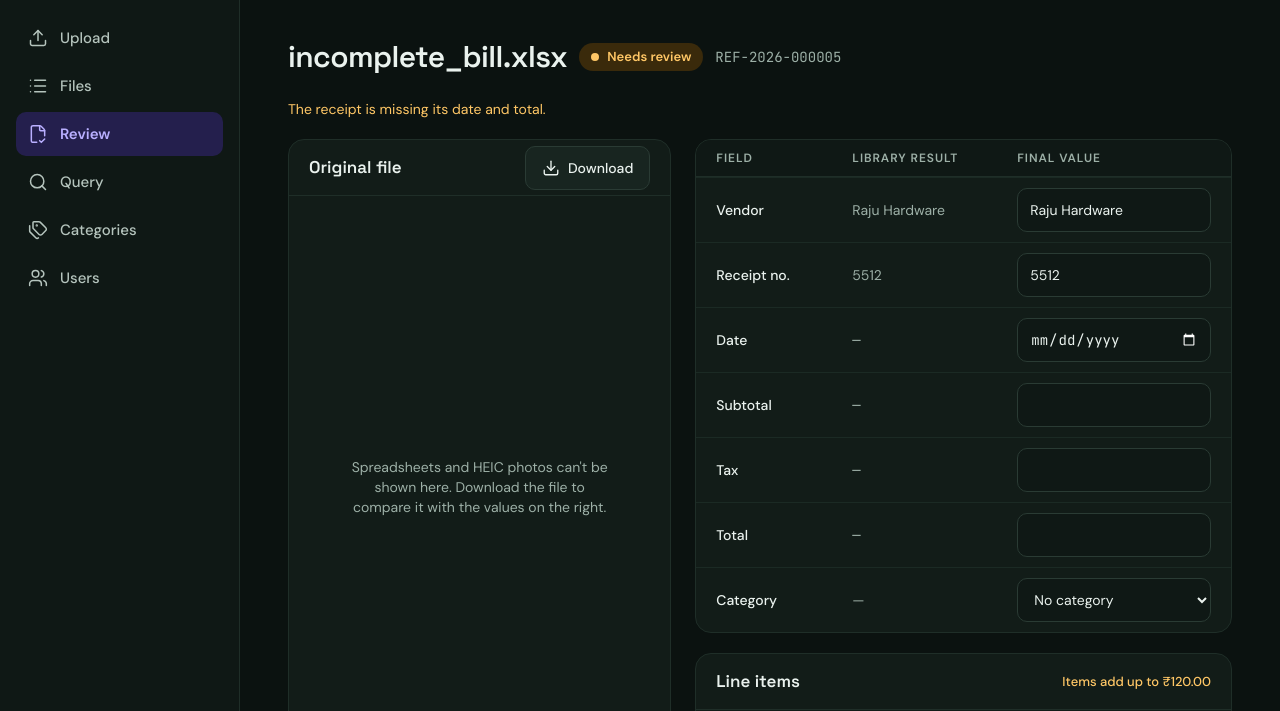
Review page › says what the reader learned, and keeps the receipt only if ticked
The image size is (1280, 711).
Expected: the field labelled "Vendor" is shown, [1017,188,1211,232]
Type "2026-08-20" into the date field labelled "Date" at (1114, 340), box [1017,318,1211,362]
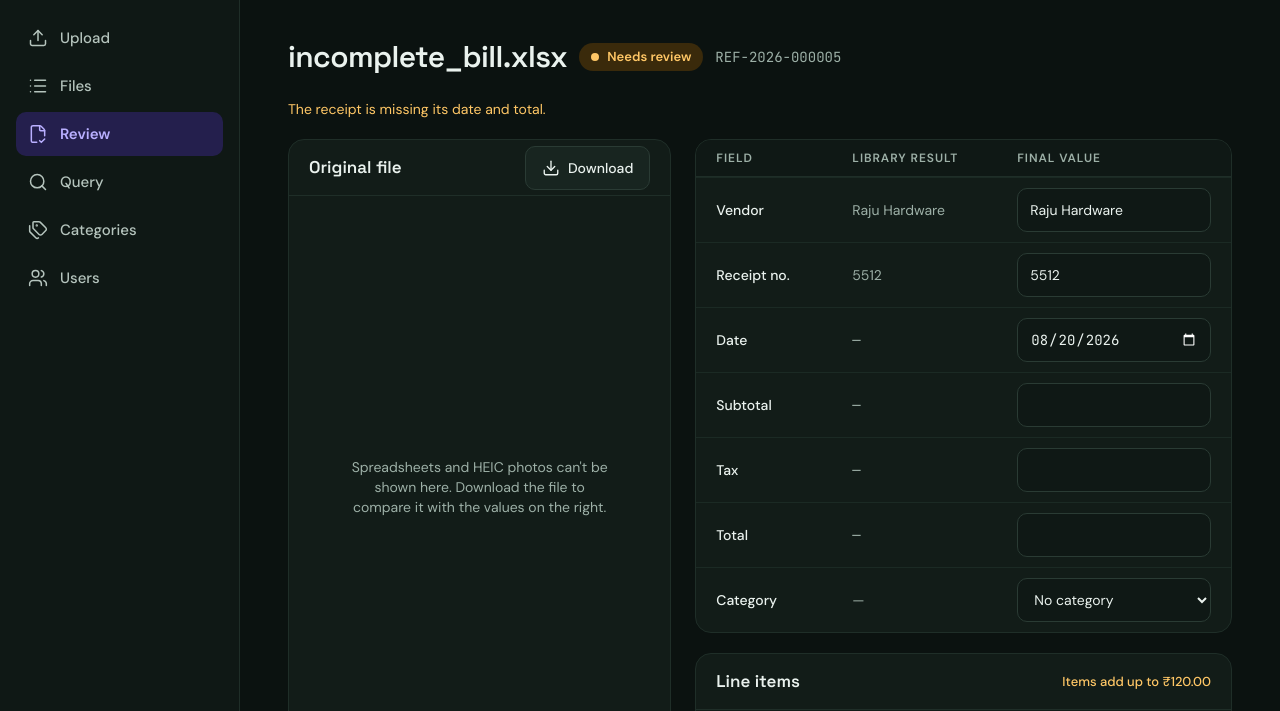
Type "210" into the field labelled "Total" at (1114, 535), box [1017,513,1211,557]
(page scrolled)
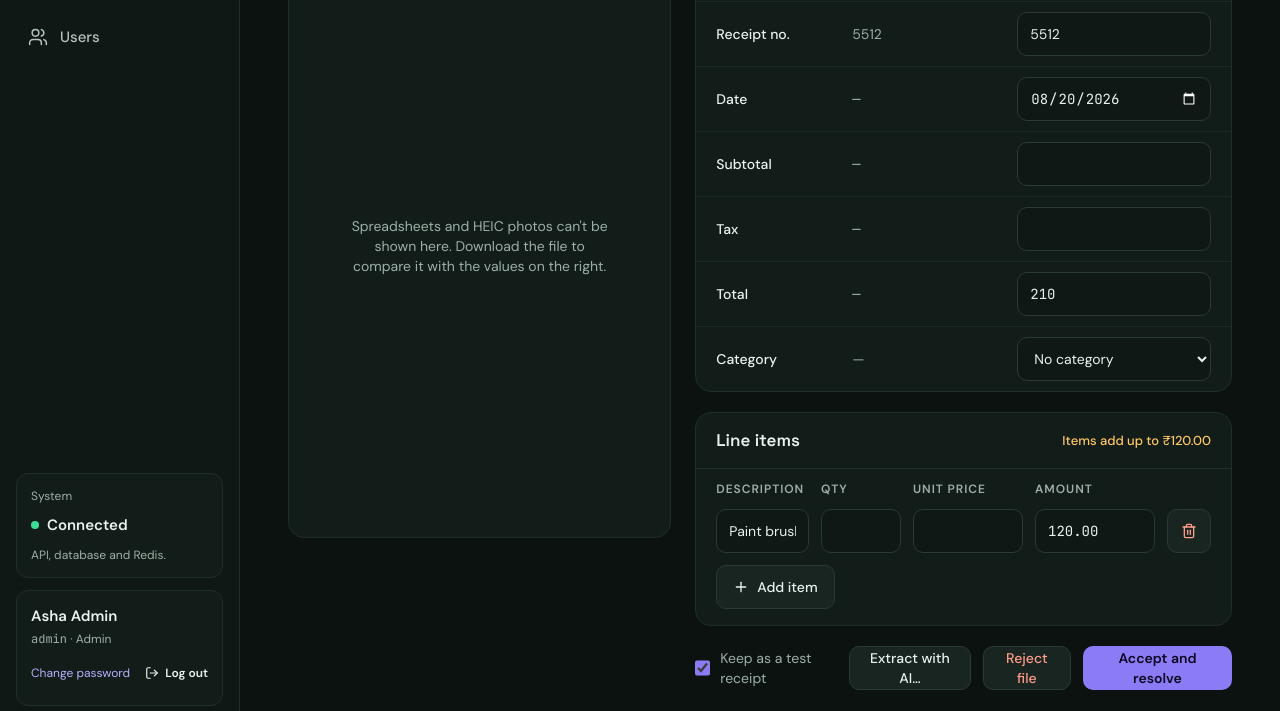
Expected: the checkbox labelled "Keep as a test receipt" is checked
Click the checkbox labelled "Keep as a test receipt" at (703, 668), box [695,659,710,677]
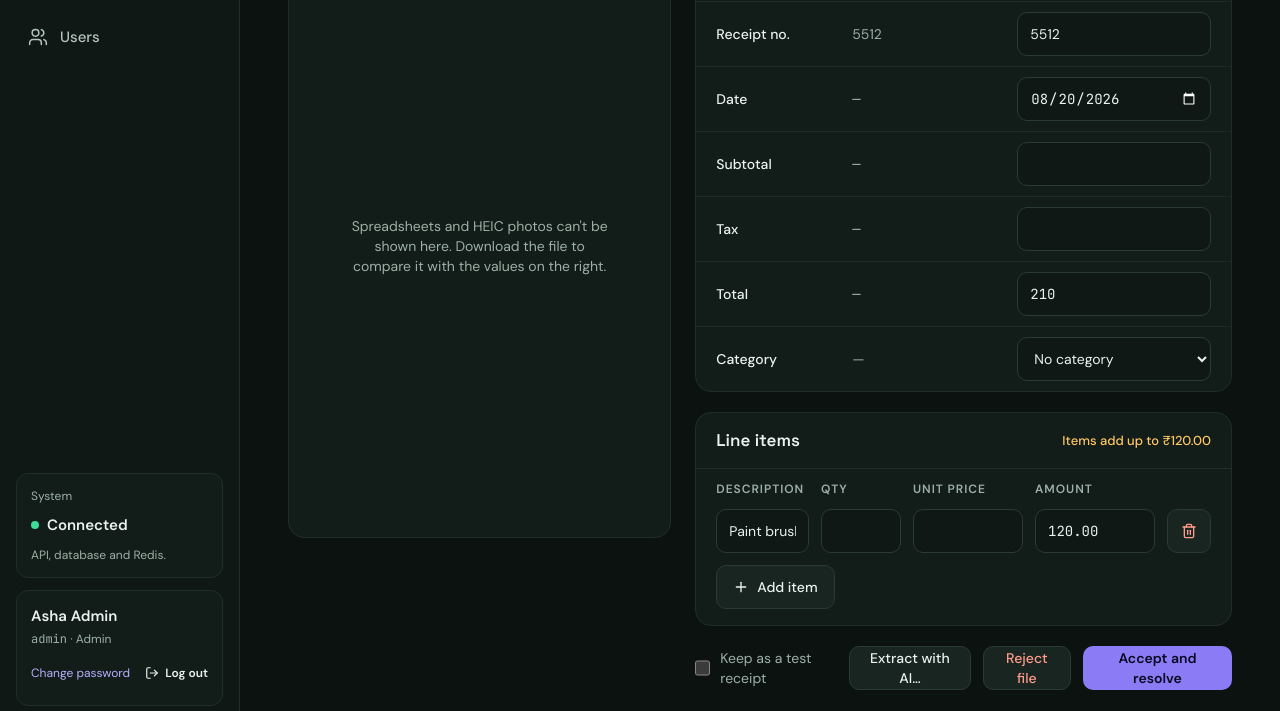
Click the button "Accept and resolve" at (1157, 668), box [1083,646,1232,690]
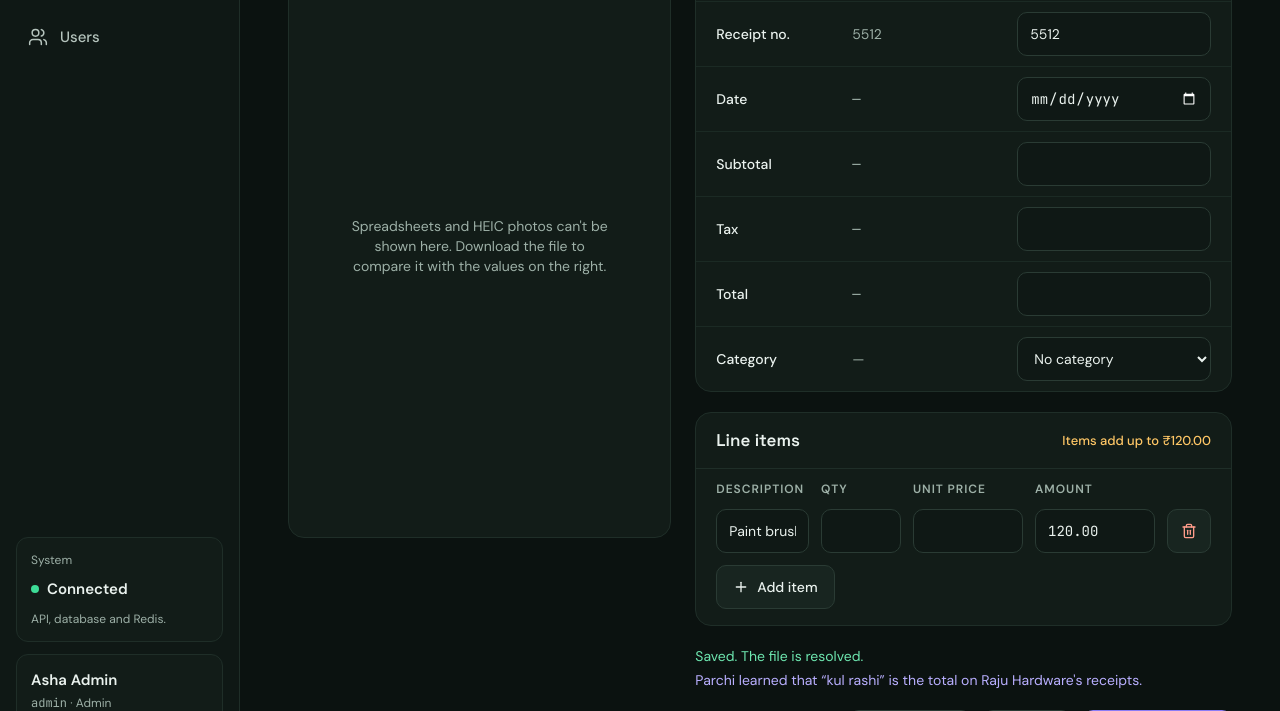
Expected: the text "Parchi learned that “kul rashi” is the total on Raju Hardware's receipts." is shown, [695,671,1142,689]
